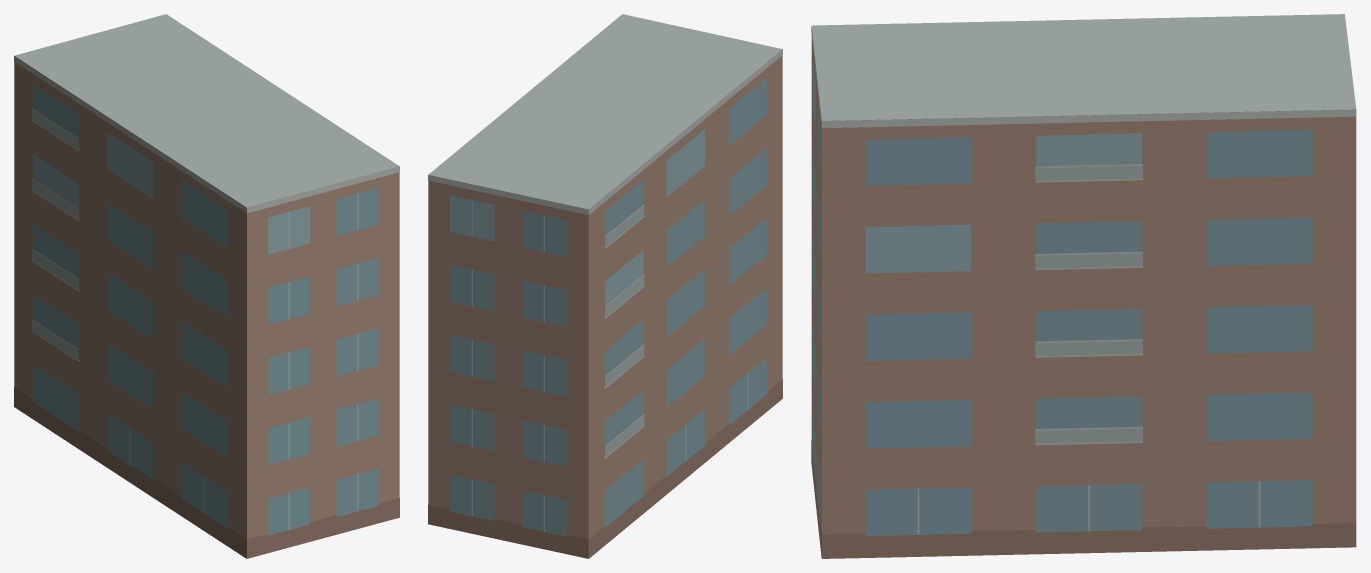
File: survey-upis-32968517.glb
3 renders of one model, left to right at view 1: azimuth 30°, elevation 25°; view 2: azimuth 150°, elevation 25°; view 3: azimuth 270°, elevation 25°, orthographic. The views are drawn at different scales.
Parts seen in each view (by area): view 1: survey-upis-32968517.tmp; view 2: survey-upis-32968517.tmp; view 3: survey-upis-32968517.tmp.
Part boxes in pixels (x1,y1,x2,y2): survey-upis-32968517.tmp: [14, 14, 399, 558]; survey-upis-32968517.tmp: [428, 14, 782, 558]; survey-upis-32968517.tmp: [811, 14, 1356, 558].
Size of the model in its own units: 7.71 by 14.7 by 16.59.
